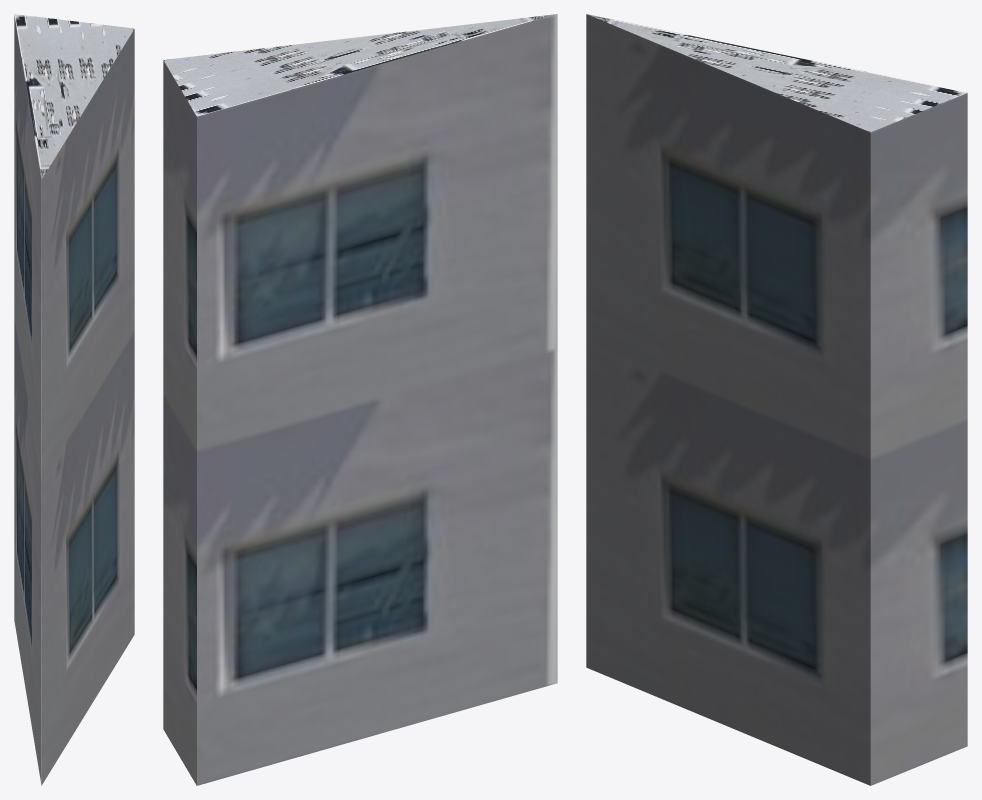
File: ResTex__1188.fbx
The picture shows the model from 3 angles, left to right: view 1: azimuth 30°, elevation 25°; view 2: azimuth 150°, elevation 25°; view 3: azimuth 270°, elevation 25°; orthographic projection. The views are drawn at different scales.
Parts seen in each view (by area): view 1: CityEngineMaterial_10_m, CityEngineMaterial_2_m; view 2: CityEngineMaterial_10_m, CityEngineMaterial_2_m; view 3: CityEngineMaterial_10_m, CityEngineMaterial_2_m.
Boxes of the visible parts, x1,y1,x2,y2 form: CityEngineMaterial_10_m: (14, 15, 134, 785); CityEngineMaterial_2_m: (14, 14, 134, 179); CityEngineMaterial_10_m: (163, 14, 557, 785); CityEngineMaterial_2_m: (163, 14, 556, 116); CityEngineMaterial_10_m: (586, 14, 967, 785); CityEngineMaterial_2_m: (587, 14, 967, 132).
Size of the model in its own units: 2.33 by 6 by 3.18.
Materials: 2 (2 with a texture image).
